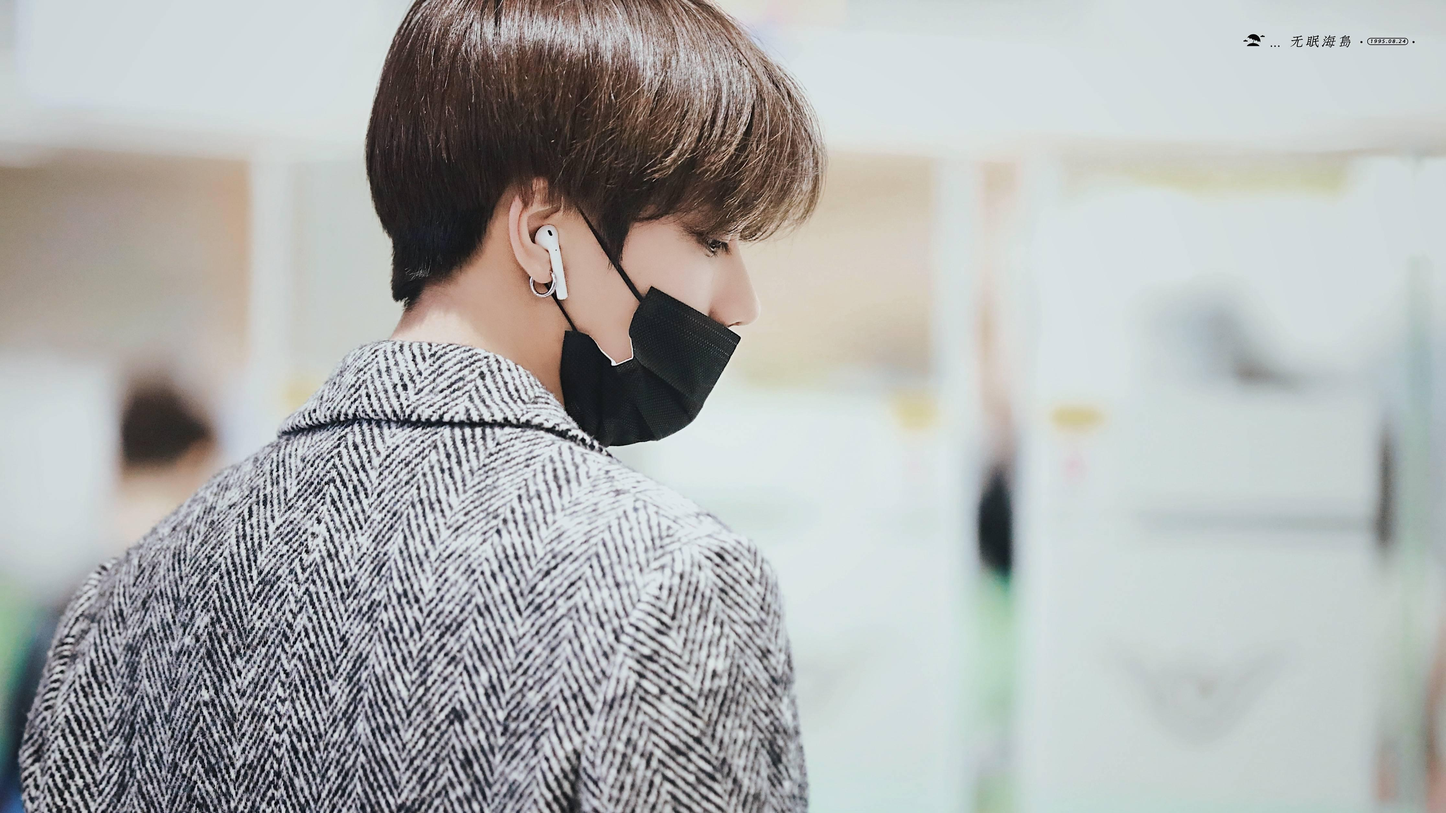WRONG: (568, 176, 758, 452)
